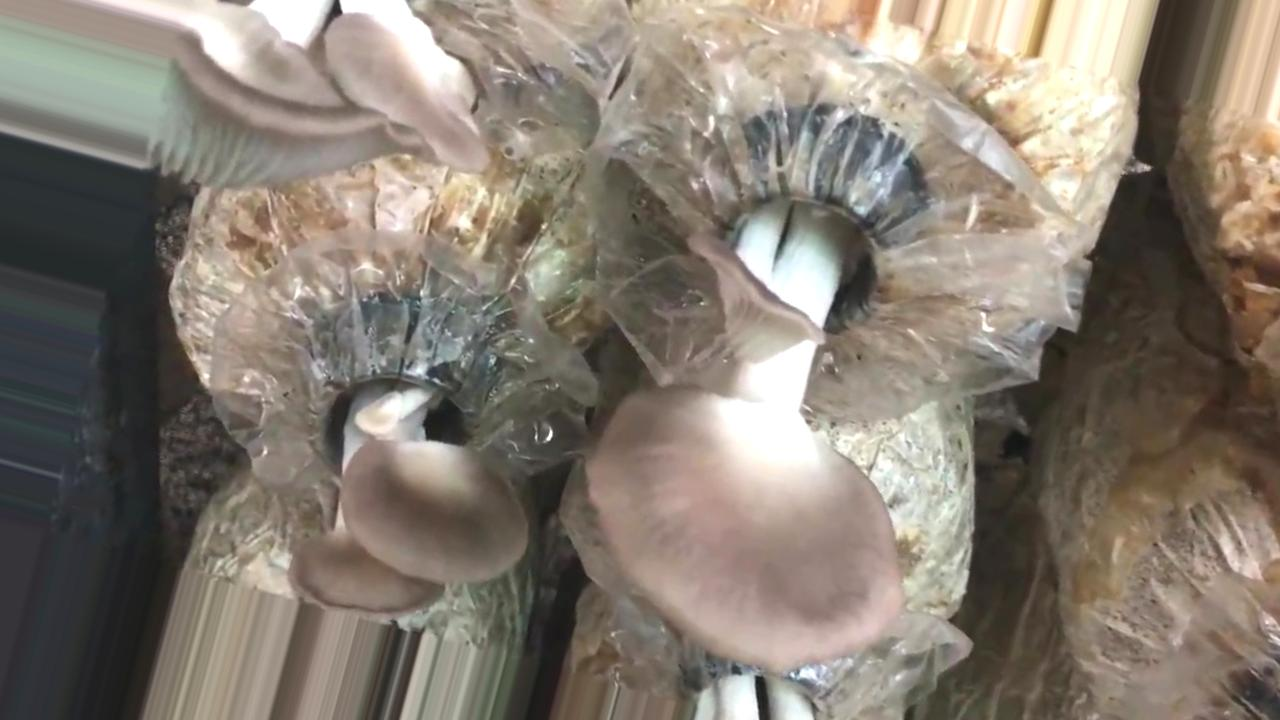nam: (573, 142, 905, 670), (161, 1, 589, 184), (285, 317, 527, 620)
